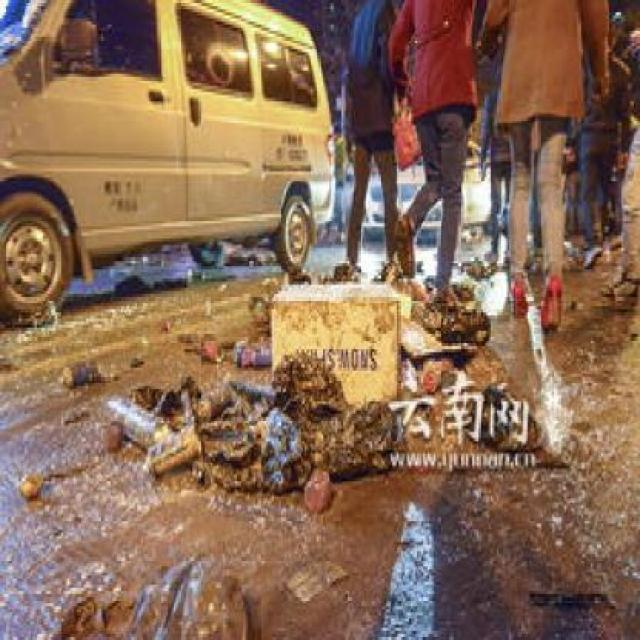garbage: (223, 312, 272, 370)
